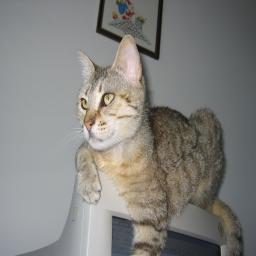catnose: (83, 116, 96, 134)
